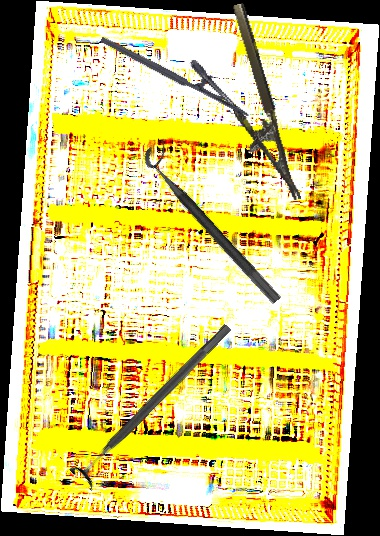Fixation Ring: (68, 315, 241, 493), (139, 137, 294, 306)
Needle Holder: (205, 2, 302, 210), (99, 16, 261, 121)
